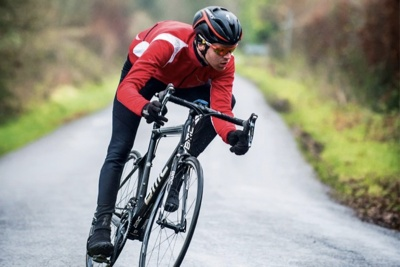helmet: (194, 2, 245, 74)
